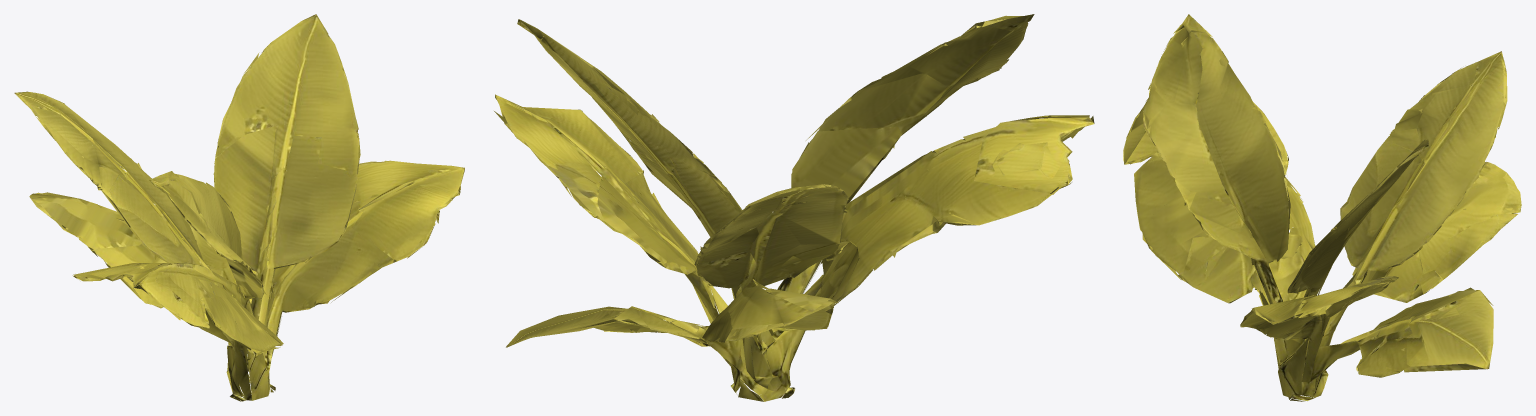
File: turtle-s04-top-yellow.glb
3 views of the same model, side by side, from view 1: azimuth 30°, elevation 25°; view 2: azimuth 150°, elevation 25°; view 3: azimuth 270°, elevation 25° (orthographic). The views are drawn at different scales.
Visible parts, largest first — view 1: Mesh_0; view 2: Mesh_0; view 3: Mesh_0.
Part boxes in pixels (x1,y1,x2,y2): Mesh_0: (14, 14, 464, 401); Mesh_0: (494, 14, 1094, 401); Mesh_0: (1123, 14, 1521, 401).
Bounding box in the file's own units: 0.1 × 0.0691 × 0.0799.
Materials: 1 (1 with a texture image).
